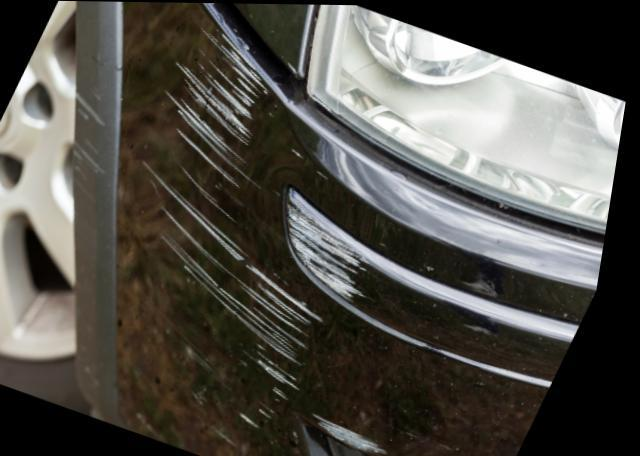rub: (149, 11, 398, 453)
